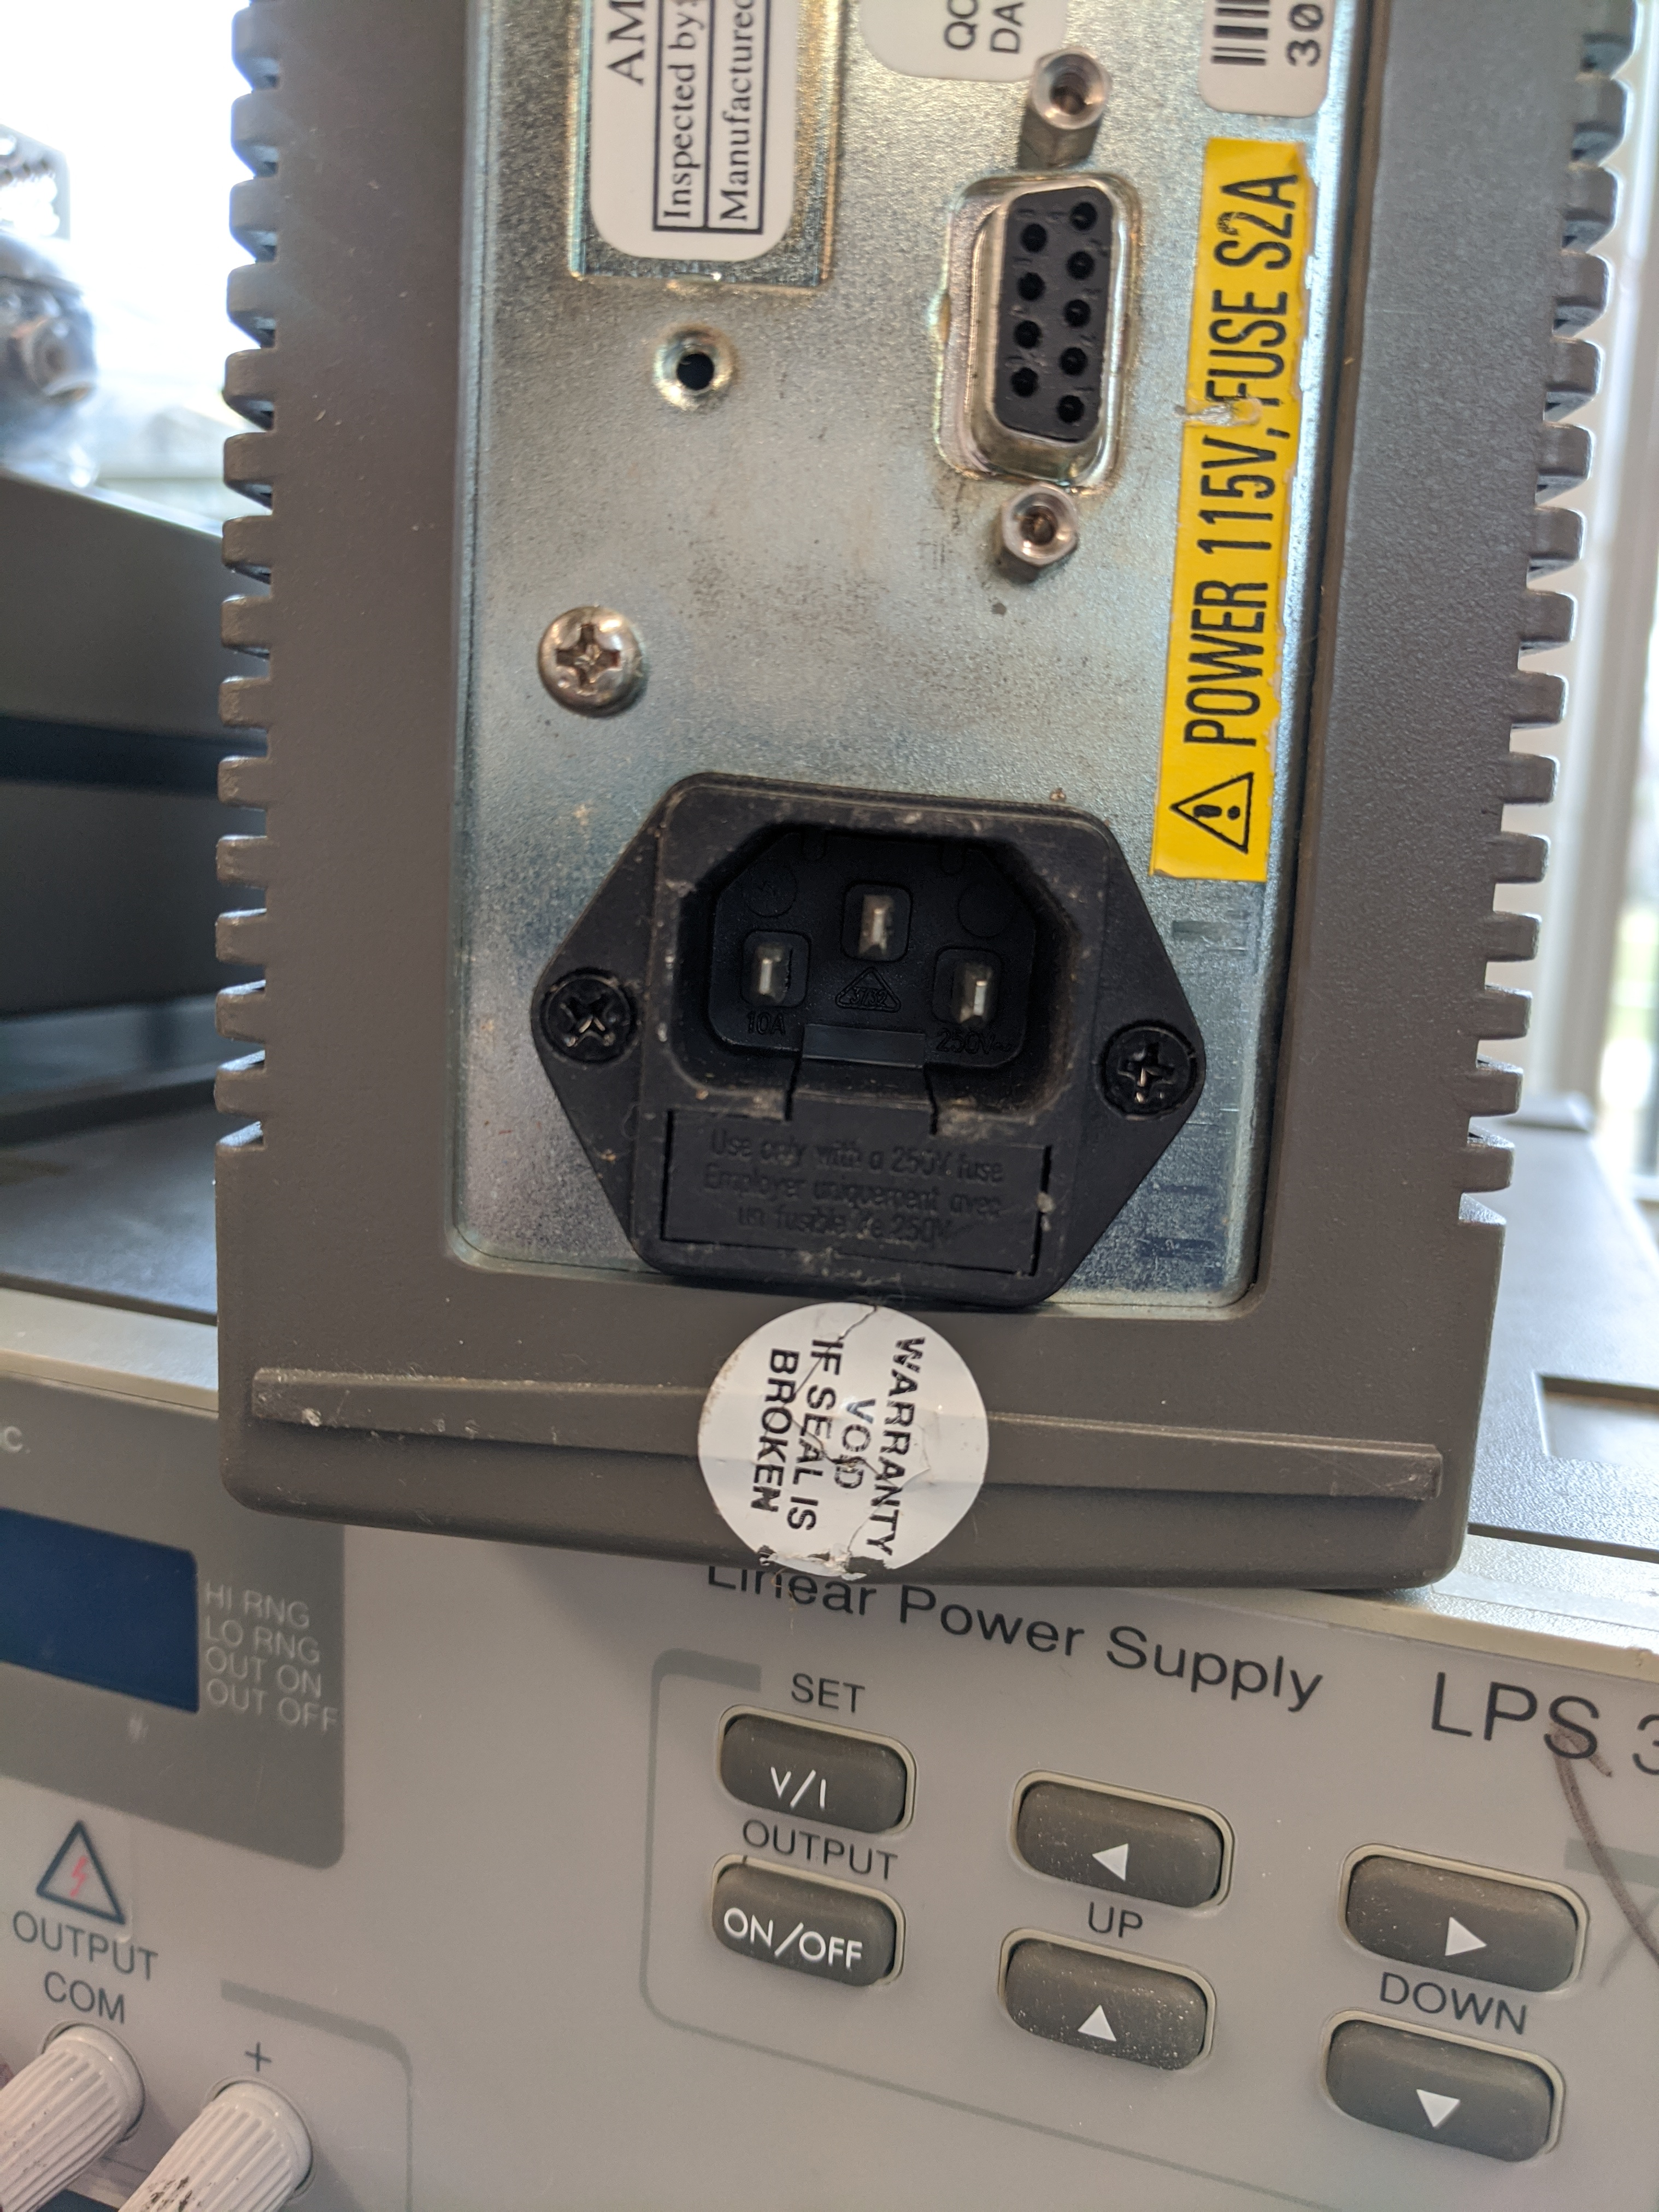cross_recessed_screw: (530, 589, 648, 709), (1103, 1010, 1192, 1120), (545, 965, 640, 1062)
